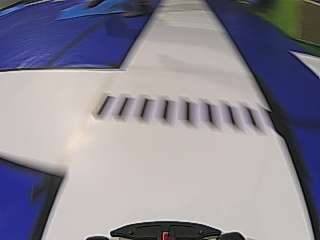CrossWalk: (92, 88, 283, 136)
